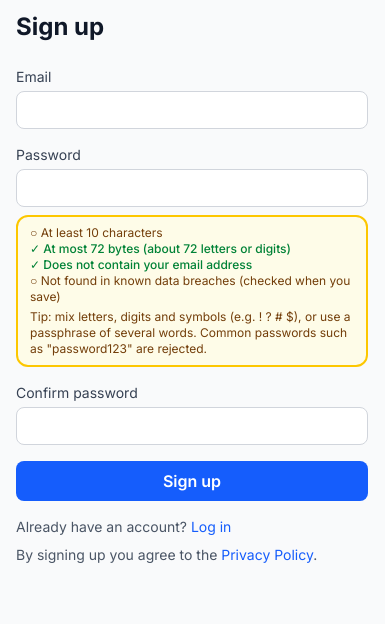
Test case: RegisterPage › shows the server blocklist error under the password field
Type "a@b.co" into the field with test id "register-email" at (192, 110), box [16,91,368,129]
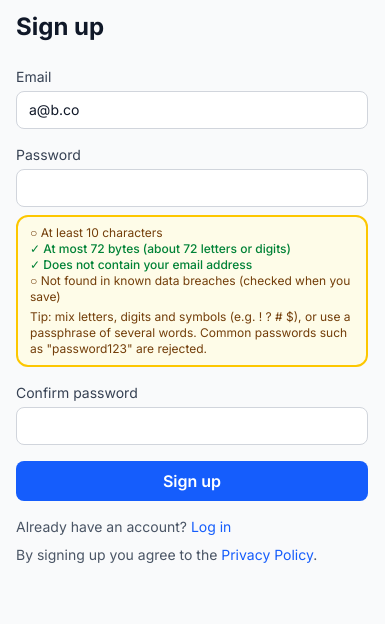
Type "password123" into the password field with test id "register-password" at (192, 188), box [16,169,368,207]
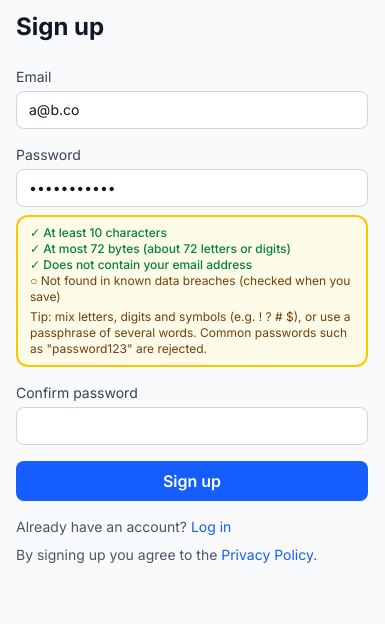
Type "password123" into the password field with test id "register-password-confirm" at (192, 426), box [16,407,368,445]
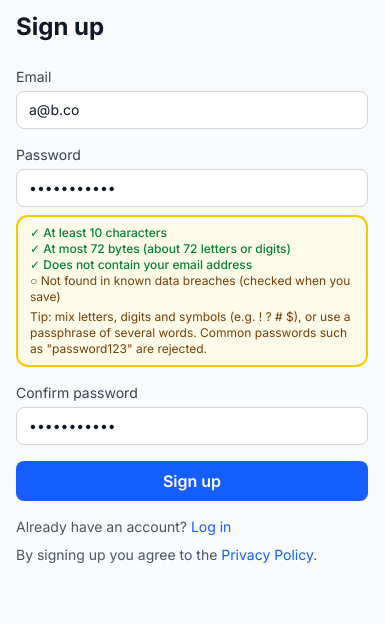
Click the button with test id "register-submit" at (192, 481), box [16,461,368,501]
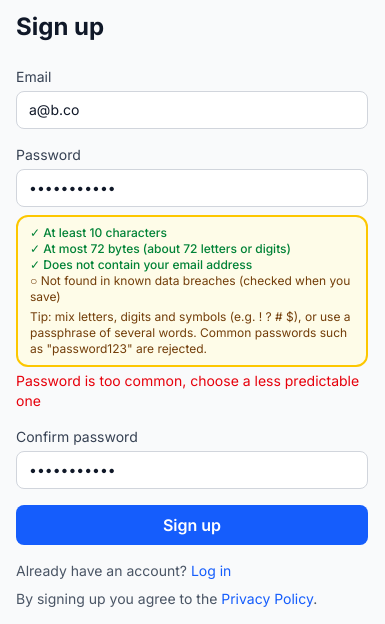
Expected: the message with test id "field-error-password" shows "too common", [16,372,359,409]
